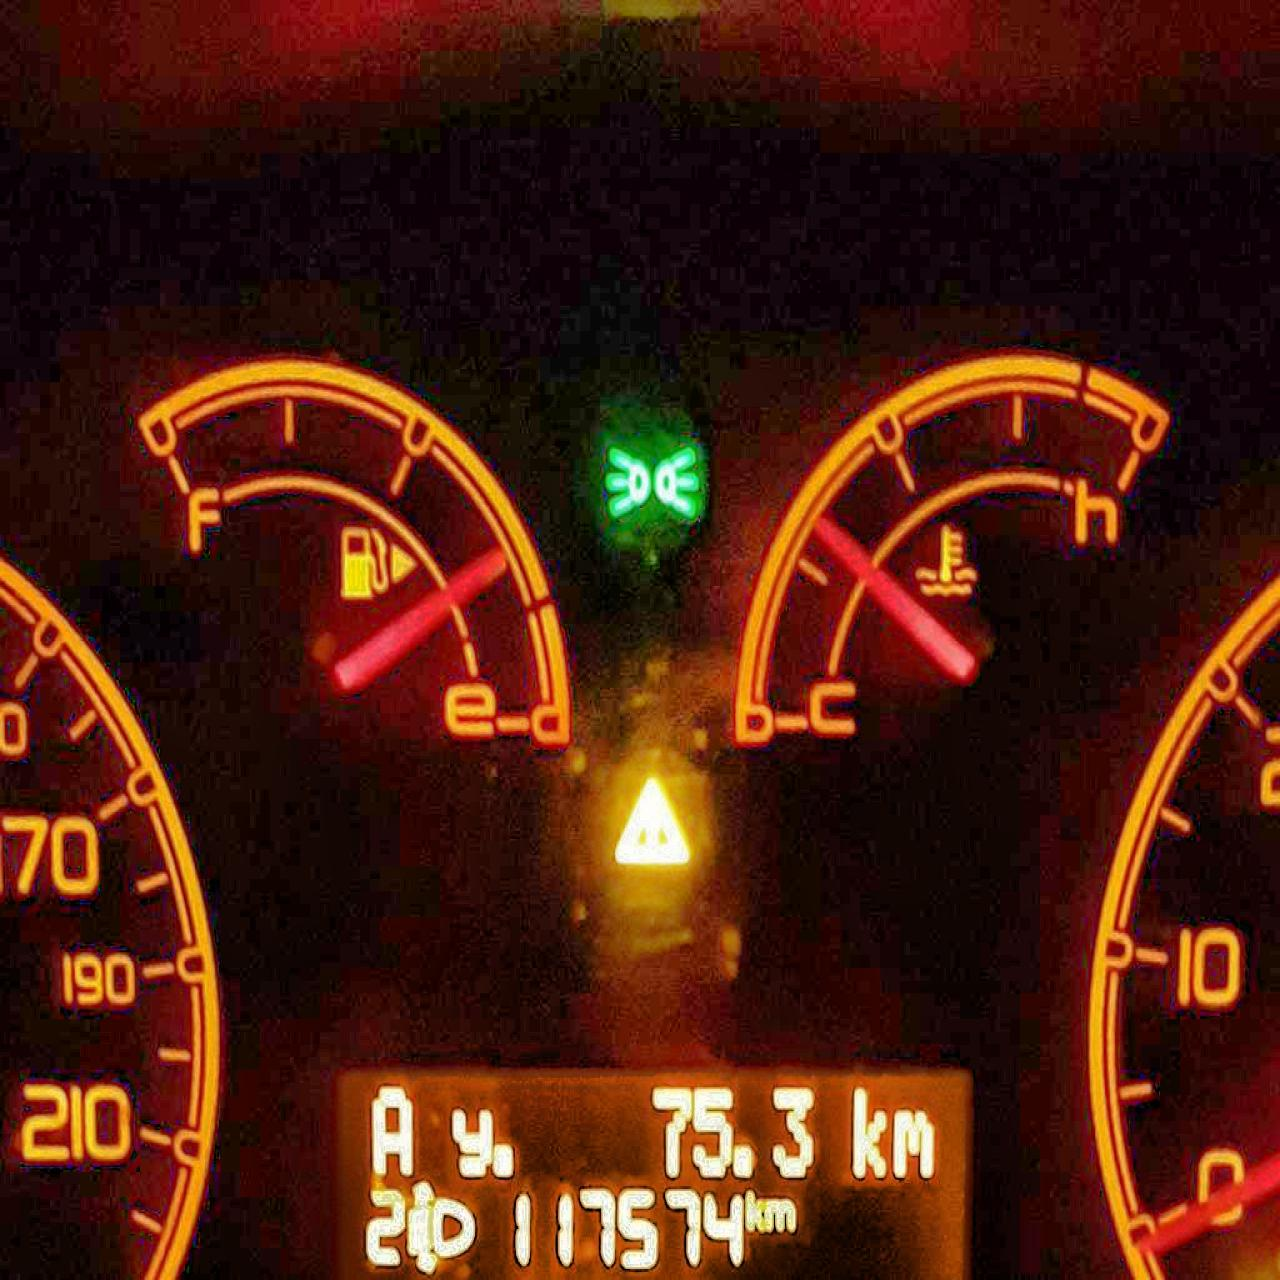-: (731, 1139, 755, 1182), (490, 1142, 516, 1179)
1: (505, 1185, 539, 1271), (545, 1184, 577, 1268)
2: (359, 1183, 407, 1267)
3: (763, 1080, 817, 1183)
4: (702, 1186, 742, 1267)
5: (690, 1083, 731, 1178), (614, 1182, 658, 1271)
7: (649, 1080, 689, 1182), (573, 1183, 613, 1271), (662, 1182, 701, 1271)
X: (365, 1080, 415, 1178), (846, 1076, 886, 1179), (890, 1104, 938, 1182), (445, 1102, 491, 1182), (763, 1194, 798, 1234), (744, 1186, 764, 1234)
odometer: (320, 1046, 981, 1275)
